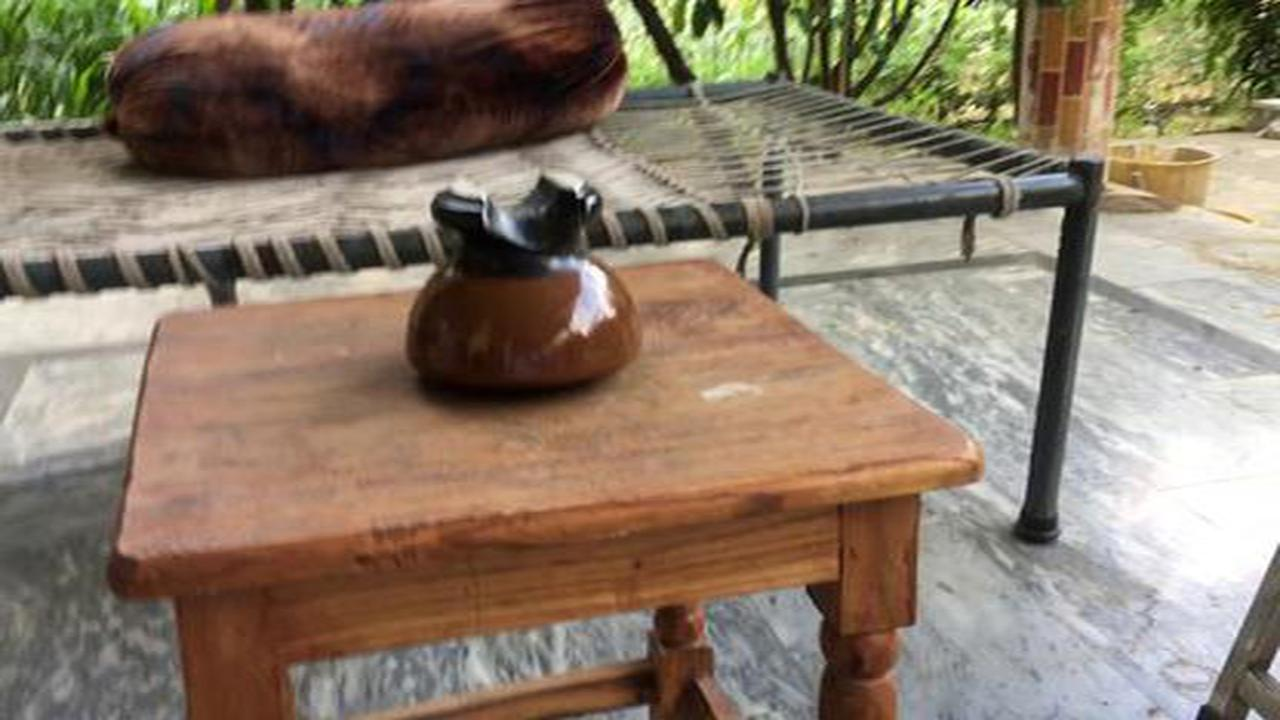insulator_pin: (385, 155, 668, 418)
